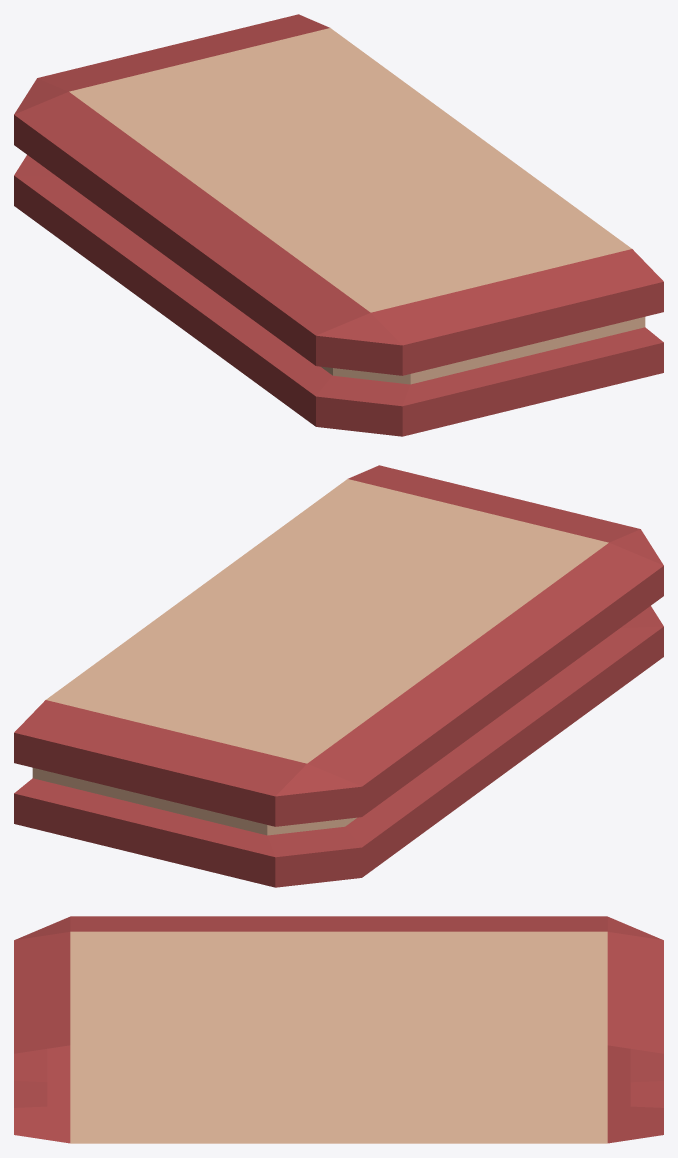
File: SquarePlatformHalf.fbx
3 renders of one model, top to bottom at view 1: azimuth 30°, elevation 25°; view 2: azimuth 150°, elevation 25°; view 3: azimuth 270°, elevation 25°, orthographic. The views are drawn at different scales.
Parts seen in each view (by area): view 1: Cube; view 2: Cube; view 3: Cube.
Boxes of the visible parts, bbox=[...] form: Cube: bbox=[14, 14, 663, 436]; Cube: bbox=[14, 465, 663, 887]; Cube: bbox=[14, 916, 663, 1143].
Size of the model in its own units: 300 by 100 by 600.
